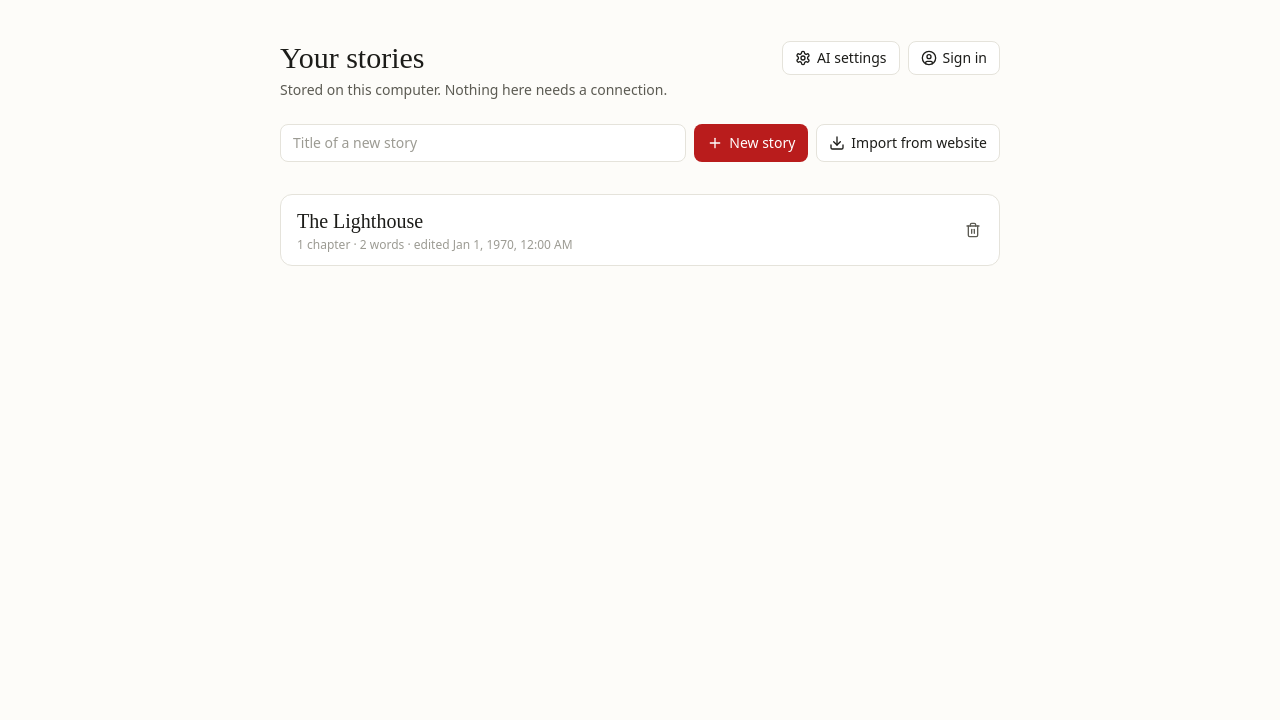
Scenario: opens a story from the library into an editor holding its first chapter
Expected: the button "Sign in" is shown, [908,41,1000,75]
Click the text "The Lighthouse" at (360, 221), box [297,210,423,232]
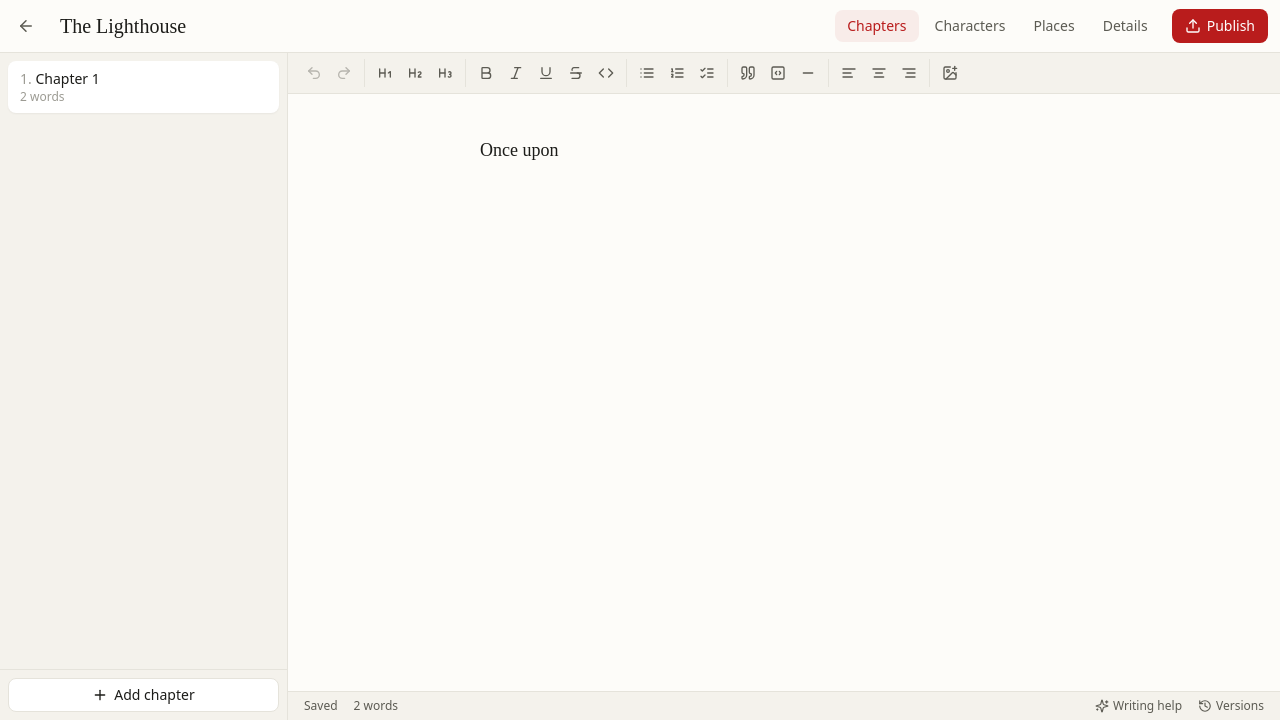
Expected: the text box "Once upon" is shown, [480,140,558,160]
Expected: the element named "Formatting" is shown, [288,53,1279,94]
Expected: the text "2 words" is shown 2 times, [20,88,64,105]; [354,698,398,714]
